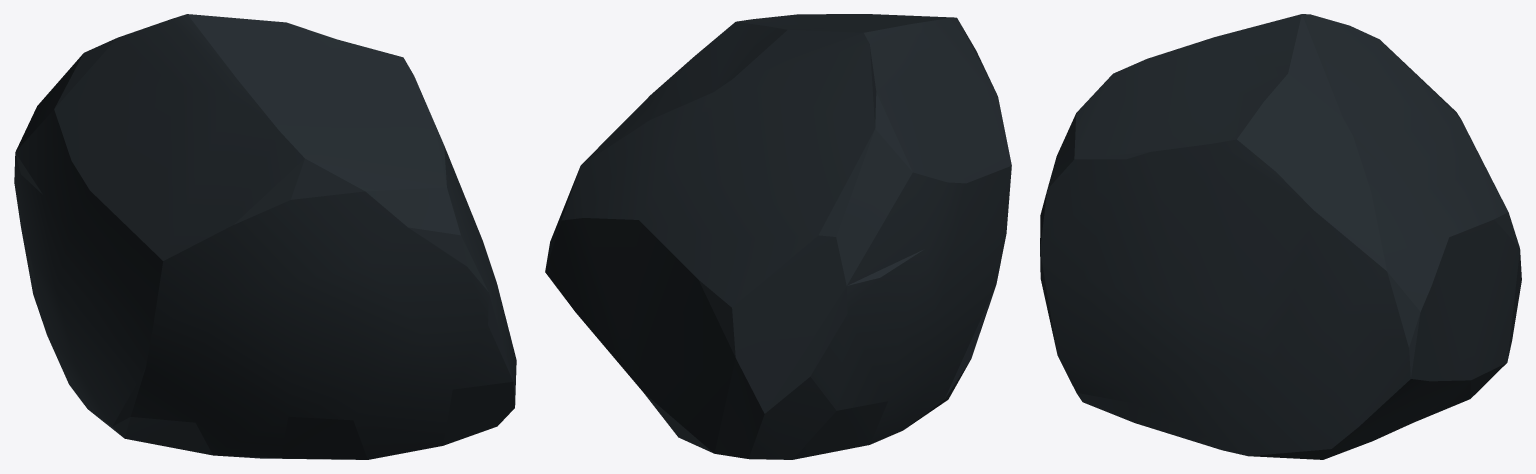
Rendered from Asteroid_s_36.FBX.
3 renders of one model, left to right at view 1: azimuth 30°, elevation 25°; view 2: azimuth 150°, elevation 25°; view 3: azimuth 270°, elevation 25°, orthographic. The views are drawn at different scales.
Parts seen in each view (by area): view 1: Asteroid_s_36; view 2: Asteroid_s_36; view 3: Asteroid_s_36.
Part boxes in pixels (x1,y1,x2,y2): Asteroid_s_36: [14, 14, 516, 459]; Asteroid_s_36: [545, 14, 1011, 459]; Asteroid_s_36: [1040, 14, 1521, 459].
Bounding box in the file's own units: 131 × 129 × 161.
